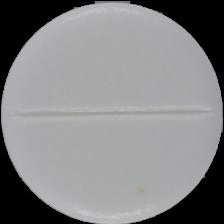63187-020: (0, 0, 224, 224)
